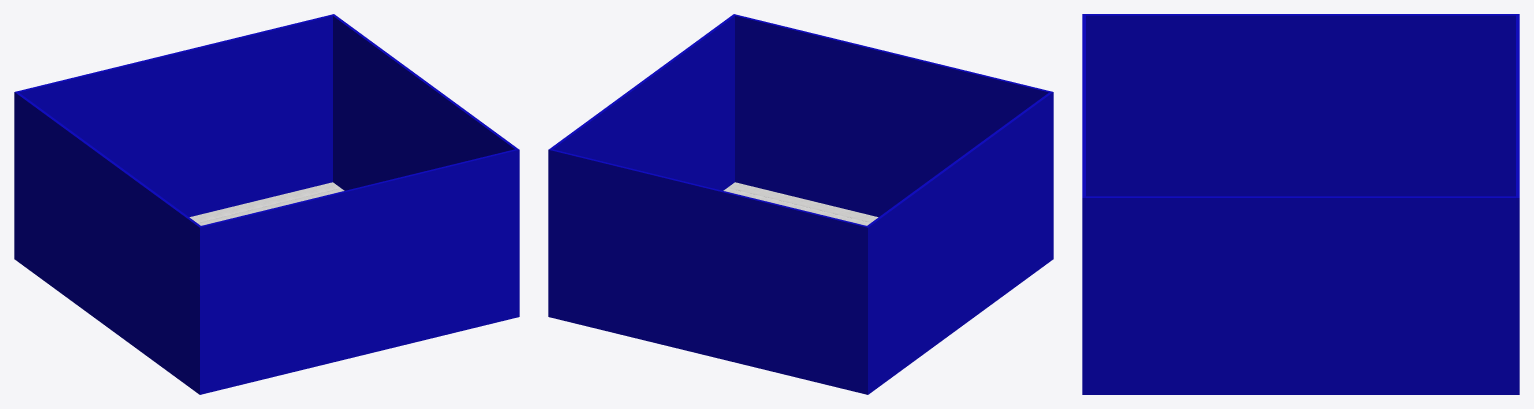
The model's file is room.fbx.
The picture shows the model from 3 angles, left to right: view 1: azimuth 30°, elevation 25°; view 2: azimuth 150°, elevation 25°; view 3: azimuth 270°, elevation 25°; orthographic projection. The views are drawn at different scales.
Parts seen in each view (by area): view 1: Box401; view 2: Box401; view 3: Box401.
Part boxes in pixels (x1,y1,x2,y2): Box401: [14, 14, 519, 394]; Box401: [548, 14, 1053, 394]; Box401: [1082, 14, 1519, 394].
Size of the model in its own units: 400 by 201 by 402.
Materials: 2 (1 with a texture image).
